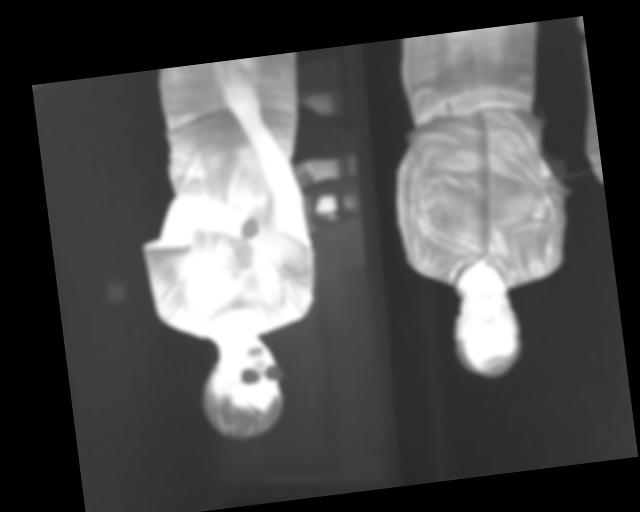face: (195, 330, 290, 445), (447, 275, 528, 383)
